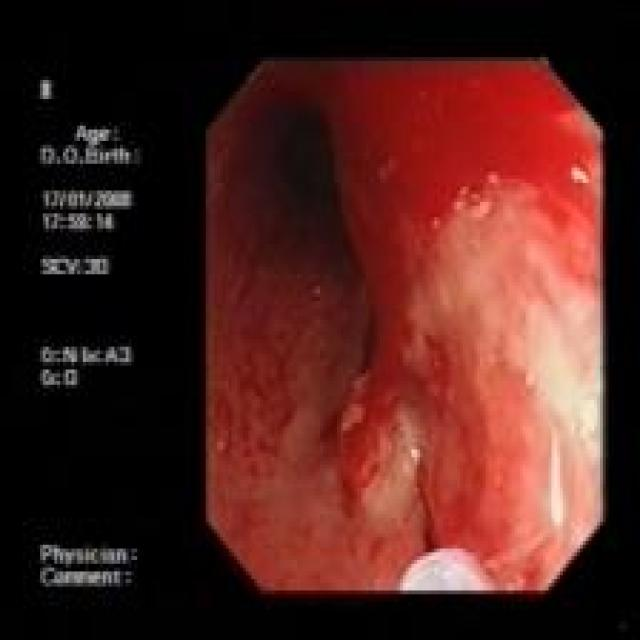blood: (238, 72, 592, 470)
bubbles: (454, 177, 492, 221)
color misalignment: (36, 78, 145, 593)
contrast: (210, 61, 380, 374)
instrument: (394, 480, 497, 589)
saturation: (505, 67, 602, 590)
specularity: (565, 152, 592, 189), (399, 434, 425, 468)
